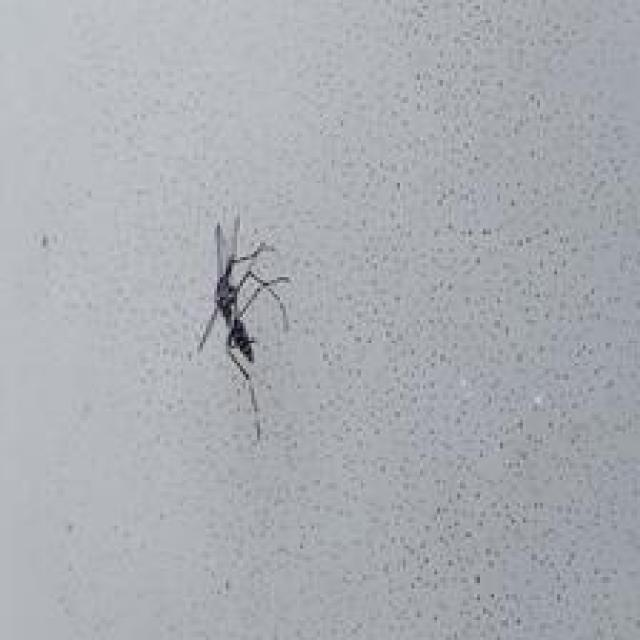Aedes albopictus: (195, 213, 292, 441)
